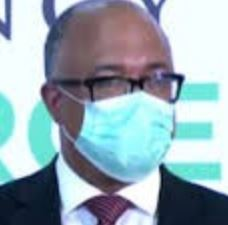with_facemask: (76, 101, 191, 185)
